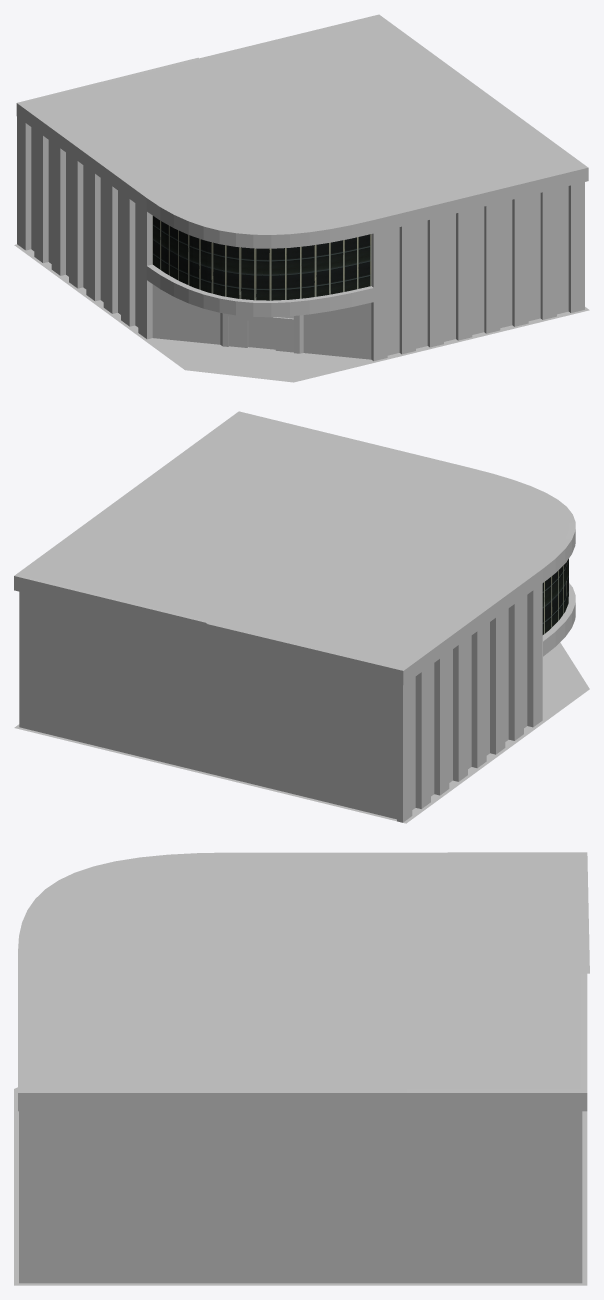
3 renders of one model, top to bottom at view 1: azimuth 30°, elevation 25°; view 2: azimuth 150°, elevation 25°; view 3: azimuth 270°, elevation 25°, orthographic. The views are drawn at different scales.
Parts seen in each view (by area): view 1: EB-022; view 2: EB-022; view 3: EB-022.
Boxes of the visible parts, bbox=[...] form: EB-022: bbox=[14, 14, 589, 382]; EB-022: bbox=[14, 411, 589, 823]; EB-022: bbox=[14, 852, 589, 1285].
Size of what is drawn, in the model's own units: 36 by 13.37 by 36.16.
